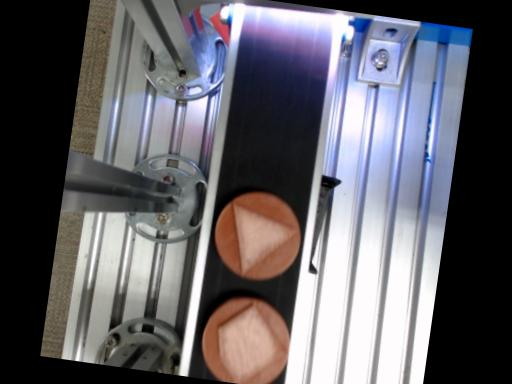Brown_Waper: (202, 297, 288, 384), (214, 192, 299, 280)
